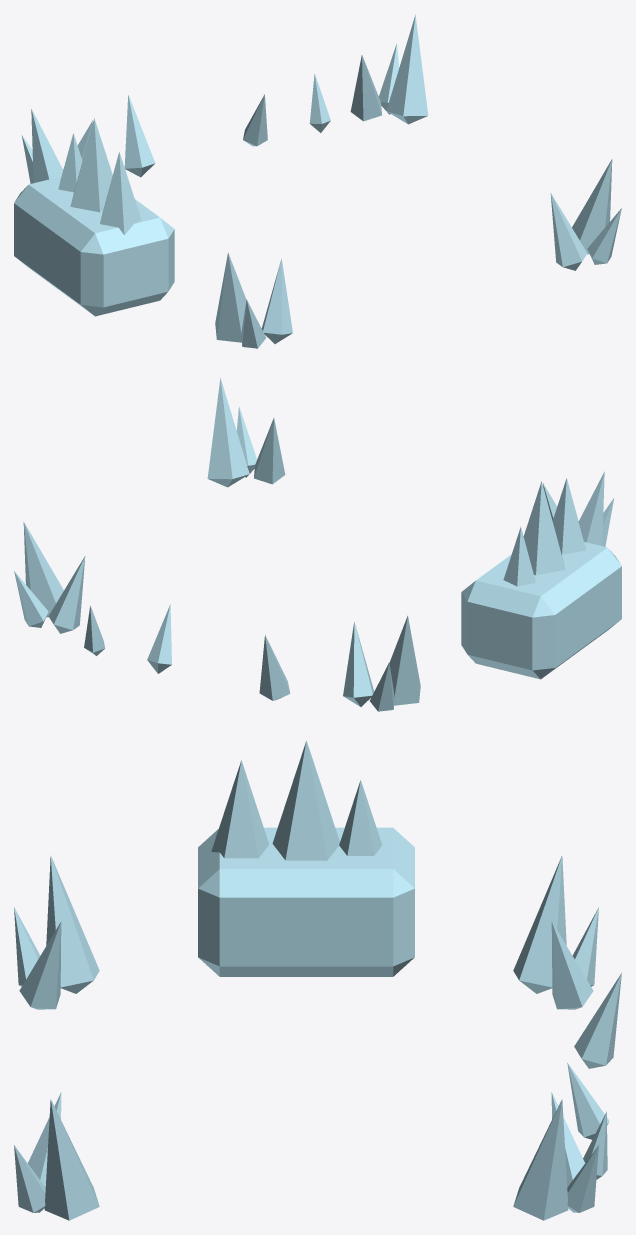
The model's file is HarpoonDressB1.obj.
3 views of the same model, one above another, from view 1: azimuth 30°, elevation 25°; view 2: azimuth 150°, elevation 25°; view 3: azimuth 270°, elevation 25° (orthographic). The views are drawn at different scales.
Parts seen in each view (by area): view 1: HarpoonDressB1; view 2: HarpoonDressB1; view 3: HarpoonDressB1.
Part boxes in pixels (x1=…): HarpoonDressB1: x1=14, y1=14, x2=621, y2=348; HarpoonDressB1: x1=14, y1=377, x2=621, y2=711; HarpoonDressB1: x1=14, y1=740, x2=621, y2=1220.
Bounding box in the file's own units: 1.3 × 0.4694 × 1.12.
